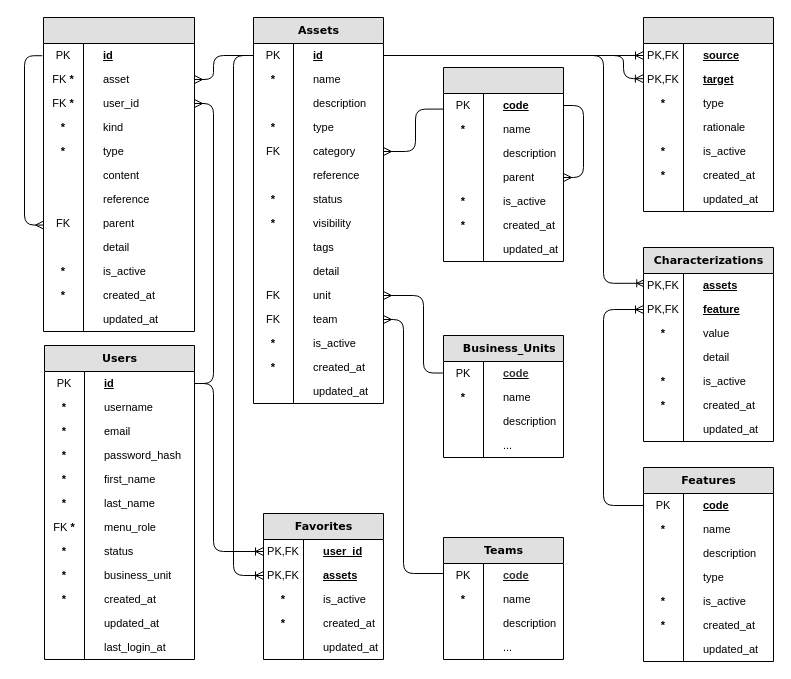
The diagram is 791 pixels wide and 679 high, and some of its shapes have lost their labels. Each missing label, with the box of its shape:
Actions: (42, 16, 194, 332)
Asset_Relations: (642, 16, 774, 212)
Categories: (442, 66, 564, 262)
